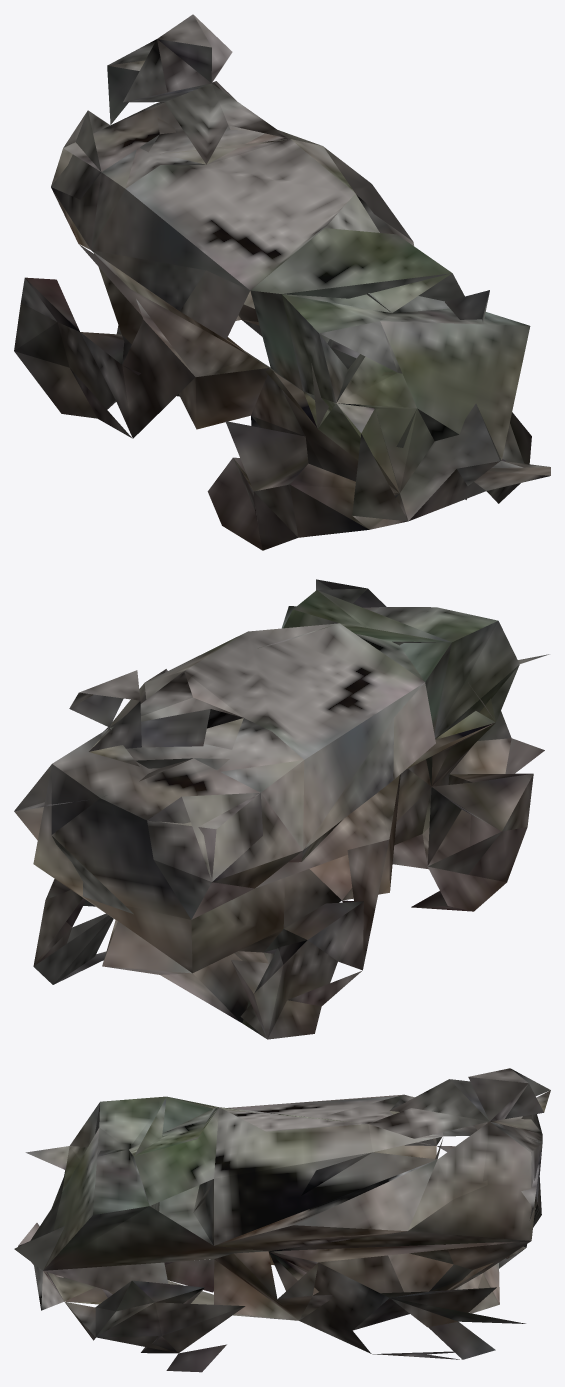
The model's file is extractor_1919765259_lod1.glb.
3 renders of one model, top to bottom at view 1: azimuth 30°, elevation 25°; view 2: azimuth 150°, elevation 25°; view 3: azimuth 270°, elevation 25°, orthographic. The views are drawn at different scales.
Bounding box in the file's own units: 5.4 × 6.1 × 11.45.
Materials: 1 (1 with a texture image).
